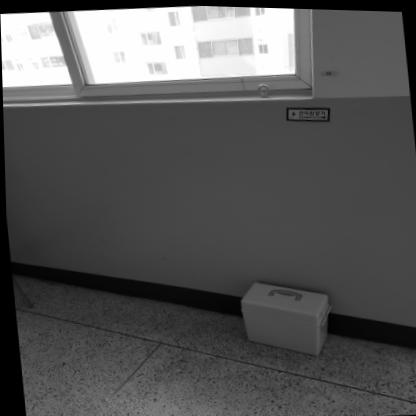DDL: (236, 275, 335, 359)
